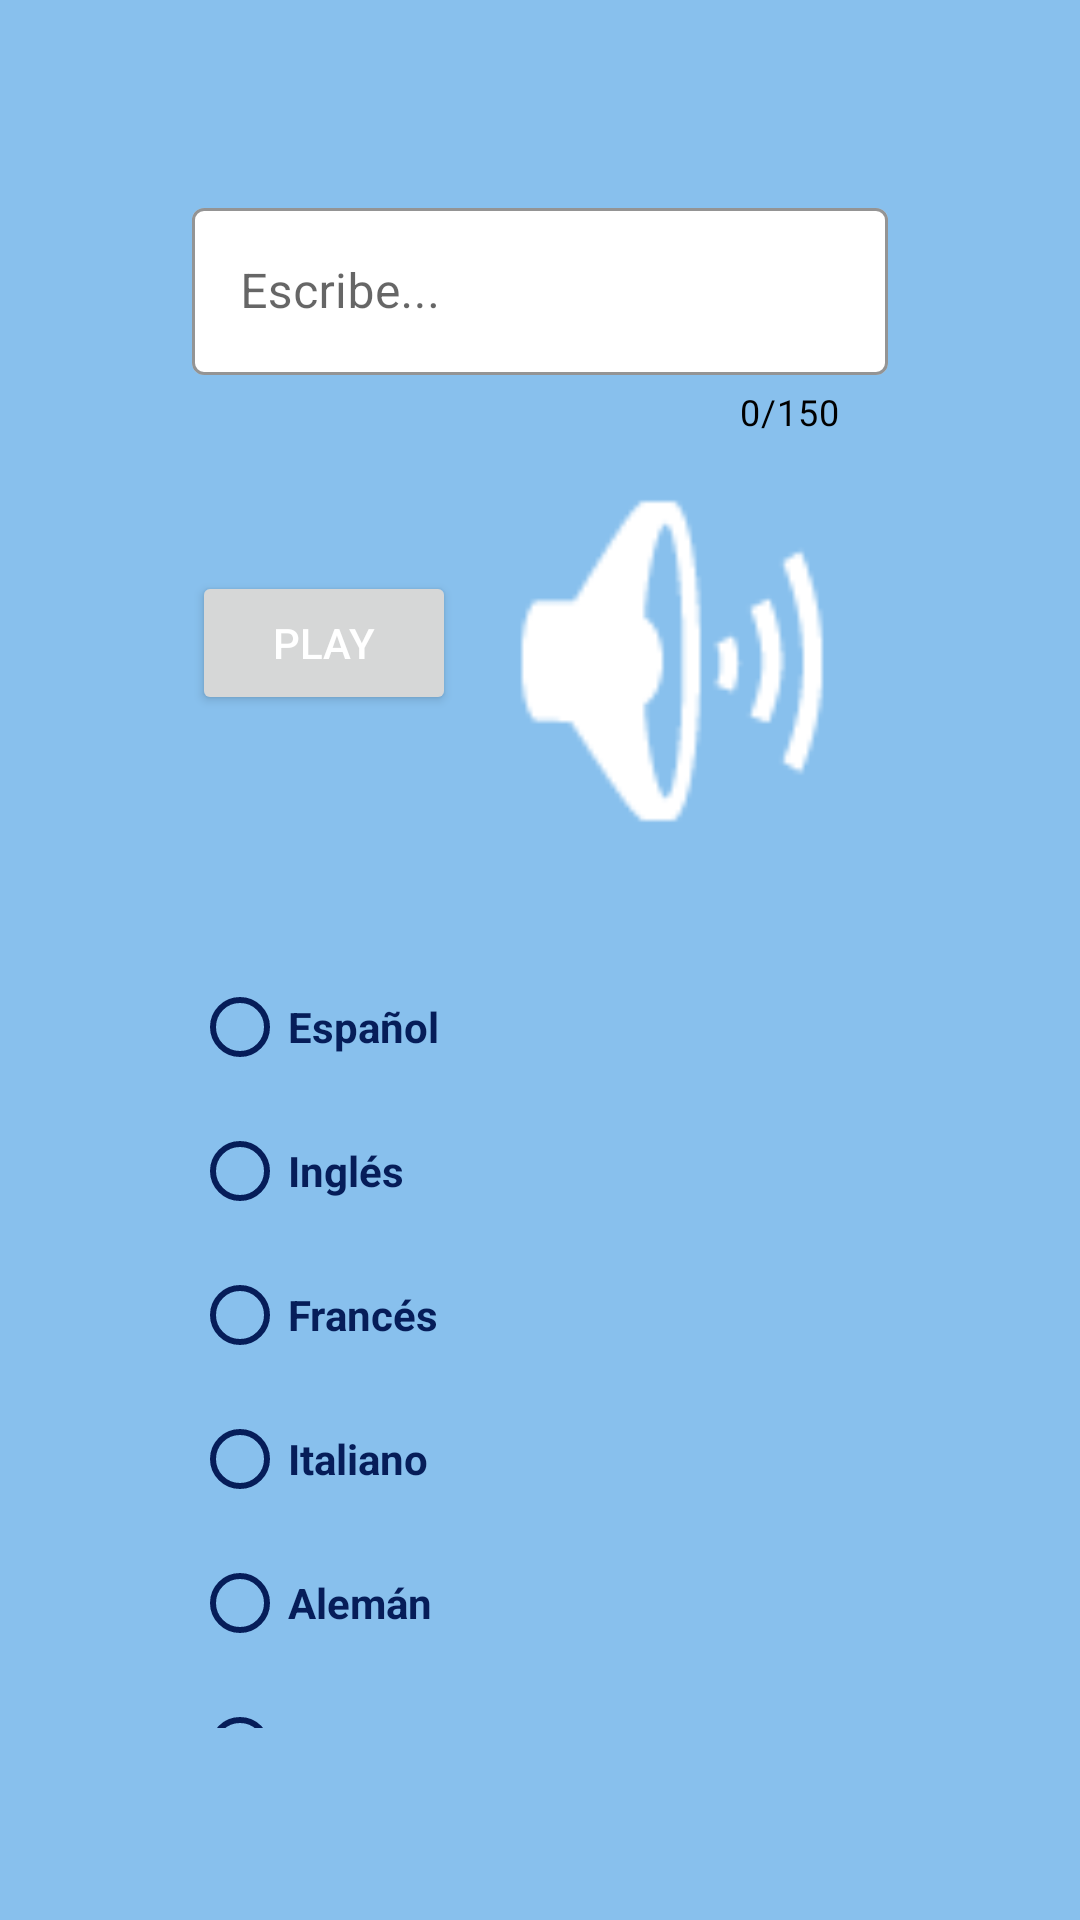

Screen size 1080 x 1920. Icon name, then its box in pixels as (x1, y1, x2, y2):
lock silent mode off: (521, 500, 823, 822)
